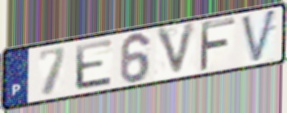6: (118, 30, 153, 85)
7: (37, 45, 68, 99)
E: (73, 37, 114, 92)
F: (197, 16, 238, 74)
V: (154, 20, 200, 80), (239, 6, 279, 65)
